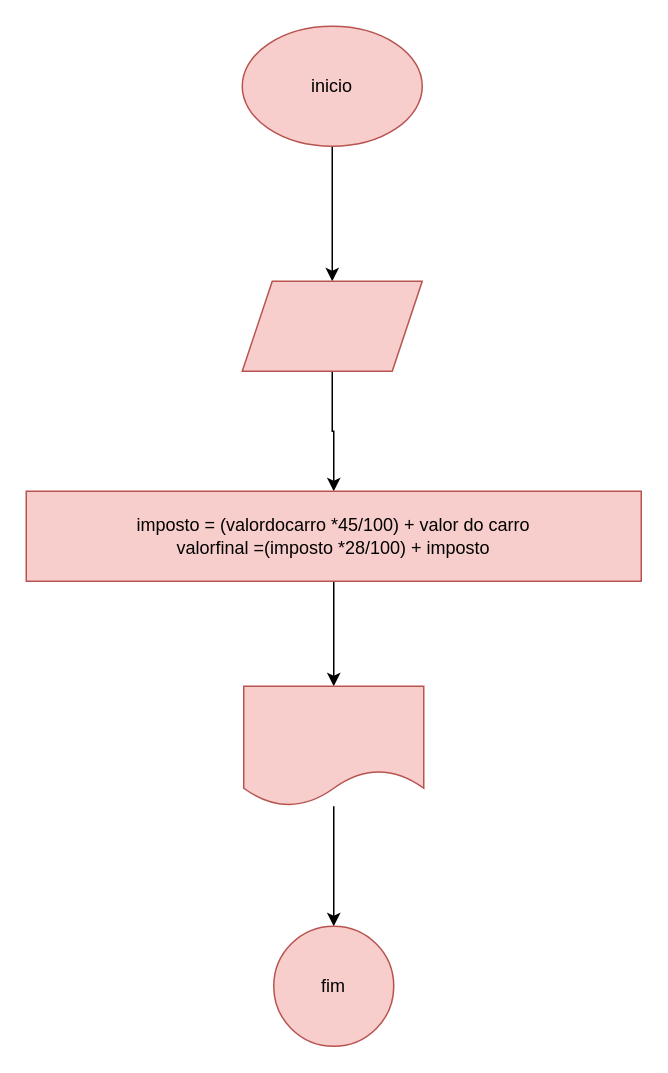
This 668x1073 diagram has some shape labels left out. Each missing label, with the centre of its shape:
valordocarro: pixel 331 325
valorfinal: pixel 333 745
